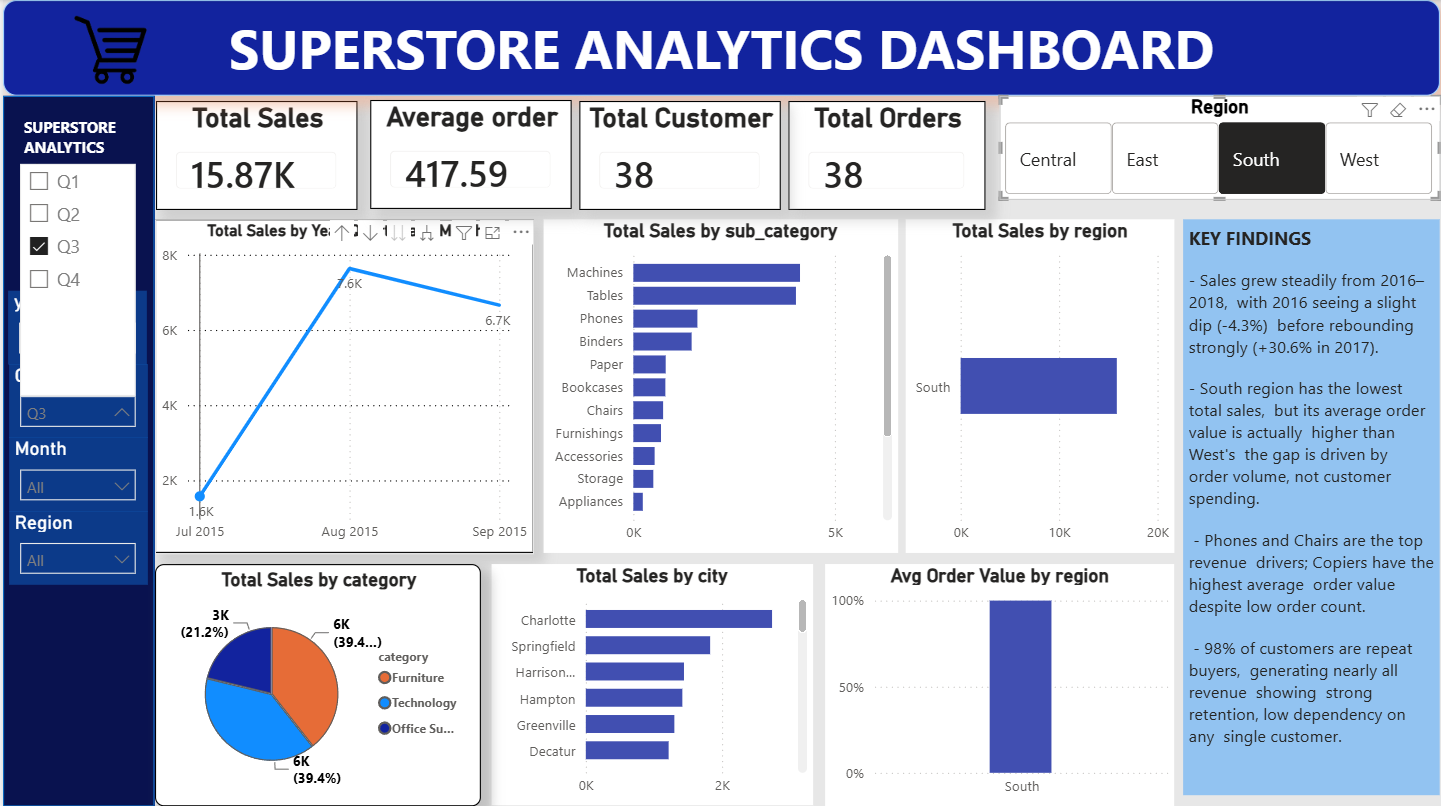

This screenshot's page, from the dashboard's own definition file:
{"tool":"powerbi","page":{"name":"Page 1","canvas":[1280,720],"ordinal":0},"visuals":[{"type":"cardVisual","title":"Total Sales","fields":{"Data":["DateTable.Total Sales"]},"box":[135.9,90.2,179.5,97.3],"z":0},{"type":"lineChart","fields":{"Y":["DateTable.Total Sales"],"Category":["DateTable.Date.Variation.Date Hierarchy.Year","DateTable.Date.Variation.Date Hierarchy.Quarter","DateTable.Date.Variation.Date Hierarchy.Month","DateTable.Date.Variation.Date Hierarchy.Day"]},"box":[135.7,195.7,337.6,297.1],"z":1000},{"type":"clusteredBarChart","fields":{"Y":["DateTable.Total Sales"],"Category":["public superstore_clean.region"]},"box":[804,195.7,239.3,297.1],"z":2000},{"type":"clusteredBarChart","fields":{"Y":["DateTable.Total Sales"],"Category":["public superstore_clean.city"]},"box":[434.8,501.9,285.9,214.9],"z":3000},{"type":"clusteredBarChart","fields":{"Category":["public superstore_clean.sub_category"],"Y":["DateTable.Total Sales"]},"box":[481.6,195.7,315.3,297.1],"z":4000},{"type":"advancedSlicerVisual","title":"Region","fields":{"Values":["public superstore_clean.region"]},"box":[887.3,85.4,392.3,92.6],"z":5000},{"type":"hundredPercentStackedColumnChart","fields":{"Category":["public superstore_clean.region"],"Y":["DateTable.Avg Order Value"]},"box":[731.9,501.9,311.3,216],"z":6000},{"type":"textbox","box":[22,0,125,85],"z":7000},{"type":"textbox","box":[0,0,1279.6,85],"z":8000},{"type":"cardVisual","title":"Average order","fields":{"Data":["DateTable.Avg Order Value"]},"box":[326.8,89.3,179.5,97.3],"z":9000},{"type":"cardVisual","title":"Total Orders","fields":{"Data":["DateTable.Total Orders"]},"box":[699.1,90.3,175.4,97.3],"z":10000},{"type":"shape","box":[0,85.2,134.9,632.7],"z":11000},{"type":"pieChart","fields":{"Y":["DateTable.Total Sales"],"Category":["public superstore_clean.category"]},"box":[135.7,501.9,290,216],"z":12000},{"type":"cardVisual","title":"Total Customer","fields":{"Data":["DateTable.Total Customers"]},"box":[513.5,90.3,179.5,97.3],"z":13000},{"type":"slicer","title":"year","fields":{"Values":["DateTable.Year"]},"box":[4.9,258.6,123.7,65.9],"z":14000},{"type":"slicer","title":"Quarter","fields":{"Values":["DateTable.Quarter"]},"box":[5.2,324,123.1,65.7],"z":15000},{"type":"slicer","title":"Month","fields":{"Values":["DateTable.Month"]},"box":[5.2,389.7,123.1,65.7],"z":16000},{"type":"slicer","title":"Region","fields":{"Values":["public superstore_clean.region"]},"box":[5.2,455.4,123.1,65.7],"z":17000},{"type":"textbox","box":[13.6,99,107.2,47.2],"z":18000},{"type":"image","box":[0,0,190.7,89],"z":19000},{"type":"image","box":[0,131.7,120.8,89],"z":20000},{"type":"textbox","box":[1050.7,195.3,228.9,482.2],"z":21000}]}

Visuals, with their boxes in screenshot pixels (x1, y1, x2, y2):
"Total Sales" cardVisual: bbox=[156, 100, 361, 211]
lineChart - DateTable.Total Sales x DateTable.Date.Variation.Date Hierarchy.Year: bbox=[155, 220, 542, 561]
clusteredBarChart - DateTable.Total Sales x public superstore_clean.region: bbox=[921, 220, 1195, 561]
clusteredBarChart - DateTable.Total Sales x public superstore_clean.city: bbox=[498, 571, 826, 805]
clusteredBarChart - public superstore_clean.sub_category x DateTable.Total Sales: bbox=[552, 220, 913, 561]
"Region" advancedSlicerVisual: bbox=[1017, 94, 1440, 200]
hundredPercentStackedColumnChart - public superstore_clean.region x DateTable.Avg Order Value: bbox=[839, 571, 1195, 805]
textbox: bbox=[25, 0, 168, 94]
textbox: bbox=[0, 0, 1440, 94]
"Average order" cardVisual: bbox=[374, 99, 580, 210]
"Total Orders" cardVisual: bbox=[801, 100, 1002, 211]
shape: bbox=[0, 94, 155, 805]
pieChart - DateTable.Total Sales x public superstore_clean.category: bbox=[155, 571, 488, 805]
"Total Customer" cardVisual: bbox=[588, 100, 794, 211]
"year" slicer: bbox=[6, 293, 147, 368]
"Quarter" slicer: bbox=[6, 367, 147, 443]
"Month" slicer: bbox=[6, 443, 147, 518]
"Region" slicer: bbox=[6, 518, 147, 593]
textbox: bbox=[16, 110, 138, 164]
image: bbox=[0, 0, 218, 98]
image: bbox=[0, 147, 138, 249]
textbox: bbox=[1204, 220, 1440, 772]
